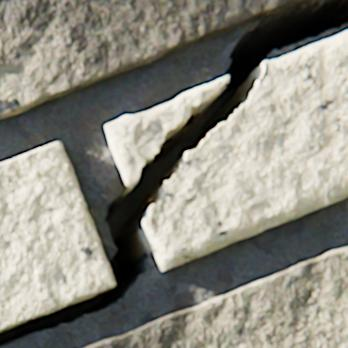brick: (0, 0, 309, 119), (85, 247, 347, 347), (0, 142, 114, 330)
broken_brick: (142, 31, 347, 271), (105, 77, 227, 188)
crack: (0, 0, 347, 347)
